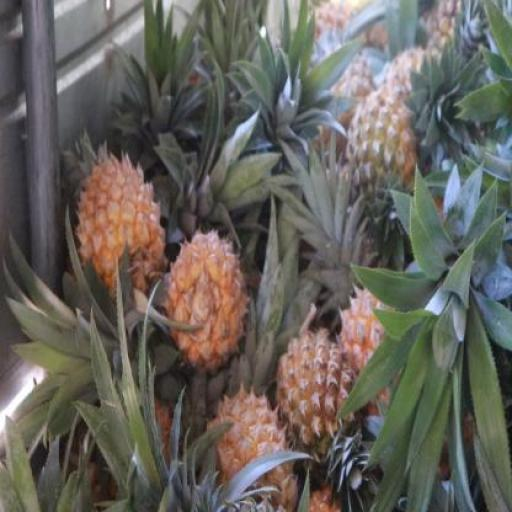Pineapple - v8 v1: (76, 153, 166, 299), (278, 334, 357, 482), (203, 388, 294, 512), (166, 234, 245, 368)
